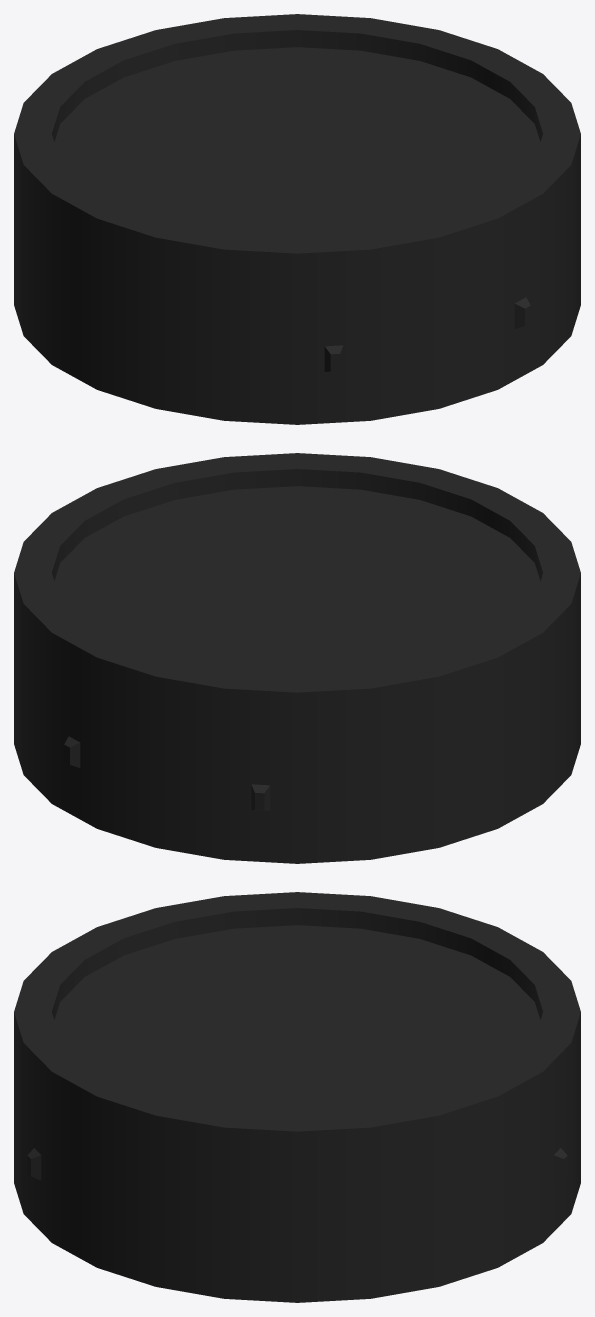
Rendered from Auriga_Engine_1.obj.
3 views of the same model, one above another, from view 1: azimuth 30°, elevation 25°; view 2: azimuth 150°, elevation 25°; view 3: azimuth 270°, elevation 25° (orthographic).
Parts seen in each view (by area): view 1: Auriga_Engine_1; view 2: Auriga_Engine_1; view 3: Auriga_Engine_1.
Boxes of the visible parts, x1,y1,x2,y2 form: Auriga_Engine_1: [14, 14, 580, 424]; Auriga_Engine_1: [14, 453, 580, 863]; Auriga_Engine_1: [14, 892, 580, 1302].
Bounding box in the file's own units: 1.88 × 0.625 × 1.88.
